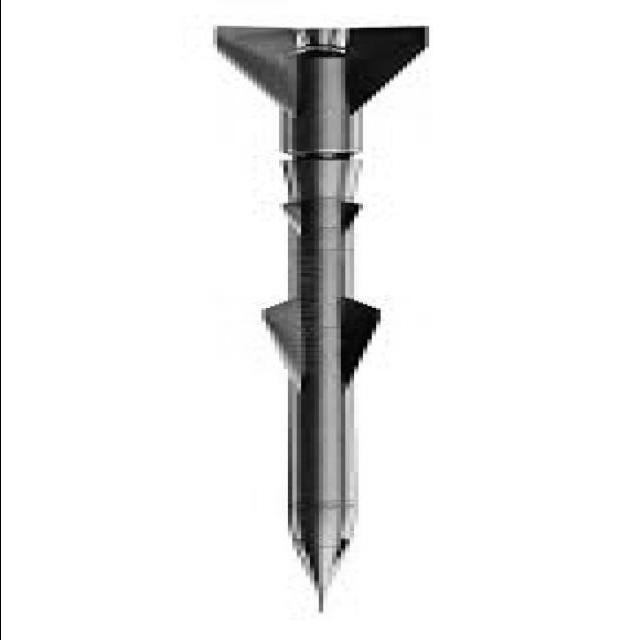Missile: (214, 17, 434, 628)
